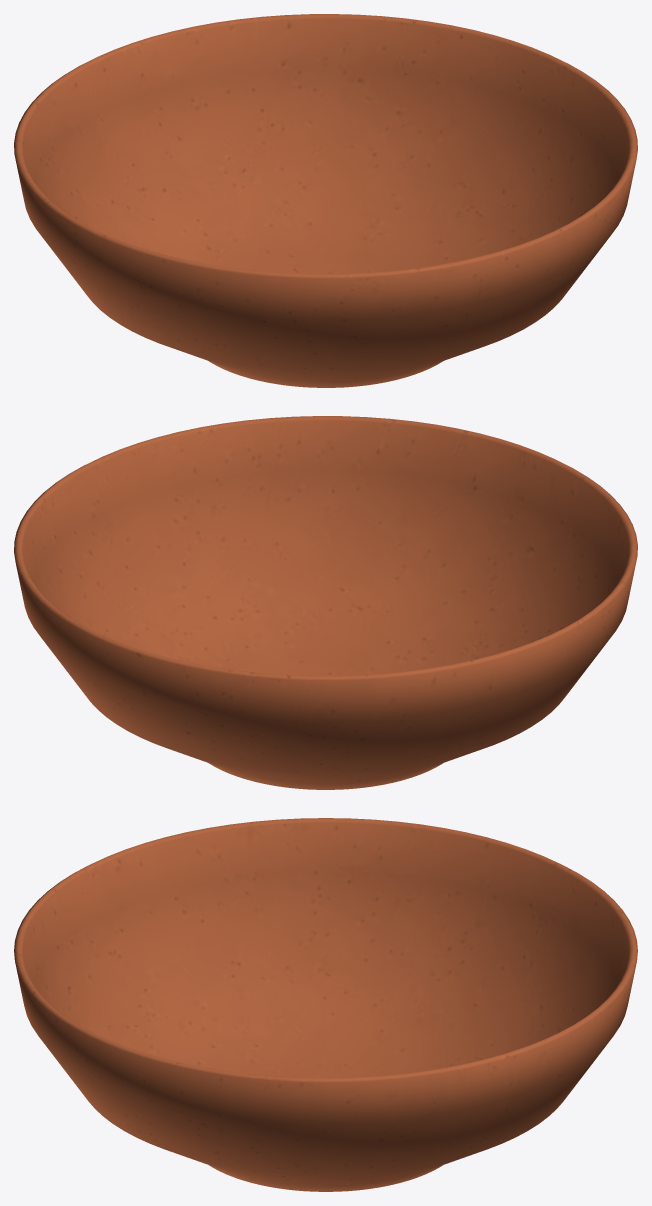
The model's file is serving-terracotta.glb.
3 views of the same model, one above another, from view 1: azimuth 30°, elevation 25°; view 2: azimuth 150°, elevation 25°; view 3: azimuth 270°, elevation 25° (orthographic).
Parts seen in each view (by area): view 1: ceramic_primary; view 2: ceramic_primary; view 3: ceramic_primary.
Part boxes in pixels (x1,y1,x2,y2): ceramic_primary: (14, 14, 637, 387); ceramic_primary: (14, 416, 637, 789); ceramic_primary: (14, 818, 637, 1191).
Bounding box in the file's own units: 0.28 × 0.0914 × 0.28.
1 material, 1 textured.
